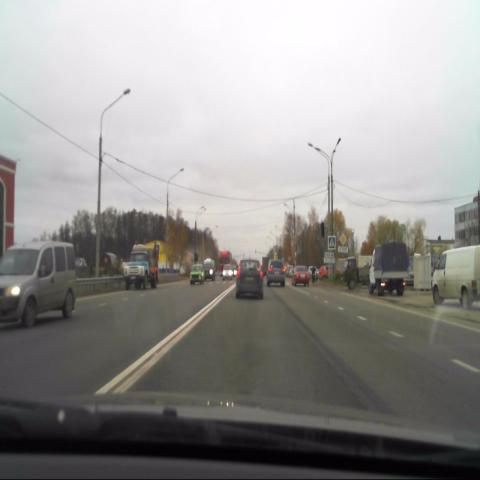2_1: (339, 234, 346, 245)
5_19_1: (328, 235, 336, 249)
